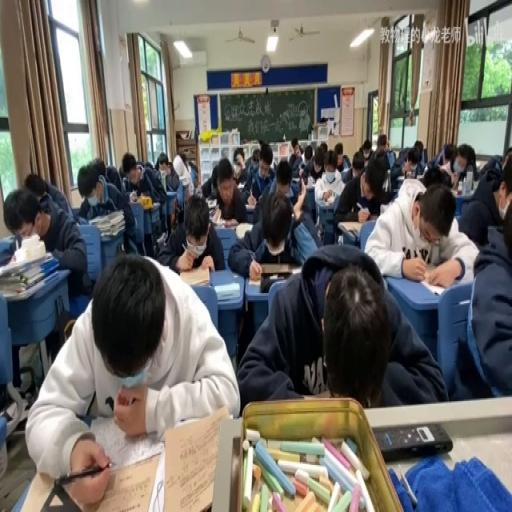calculator: (84, 410, 166, 474), (146, 448, 165, 512), (178, 264, 210, 286), (213, 282, 241, 300), (299, 180, 315, 210), (418, 278, 446, 294), (165, 185, 178, 219), (0, 234, 14, 263), (127, 193, 152, 209), (336, 219, 362, 233), (234, 222, 252, 240), (315, 194, 338, 208), (154, 230, 166, 248), (210, 205, 222, 222), (450, 186, 472, 195), (382, 170, 390, 194), (204, 196, 218, 208), (248, 273, 262, 285), (218, 218, 238, 226), (244, 196, 256, 209), (157, 168, 164, 189), (178, 174, 190, 184), (288, 266, 302, 274), (235, 180, 245, 190), (305, 175, 314, 186), (150, 199, 159, 209), (366, 212, 378, 219), (380, 202, 387, 213), (290, 176, 299, 184), (396, 172, 403, 179)
paper: (30, 250, 238, 502), (237, 246, 442, 411), (366, 178, 478, 287), (4, 181, 86, 300), (227, 182, 318, 276), (78, 157, 138, 263), (158, 190, 224, 274), (243, 141, 276, 202), (458, 198, 492, 243), (445, 142, 477, 189), (393, 139, 425, 185), (301, 142, 326, 182), (340, 148, 365, 183), (24, 172, 50, 202), (477, 150, 502, 180), (272, 158, 292, 195), (200, 164, 218, 199), (286, 138, 302, 175), (421, 165, 446, 188), (372, 134, 390, 165), (330, 141, 345, 172), (155, 152, 170, 174), (501, 148, 510, 171), (178, 151, 188, 168), (234, 148, 244, 165), (318, 141, 328, 156), (440, 150, 450, 164), (187, 161, 197, 175), (251, 150, 260, 164), (411, 154, 421, 165), (362, 148, 370, 161), (144, 160, 154, 170), (389, 149, 397, 161), (118, 164, 124, 179), (304, 151, 310, 162)
person: (373, 422, 452, 461), (259, 273, 291, 293)
